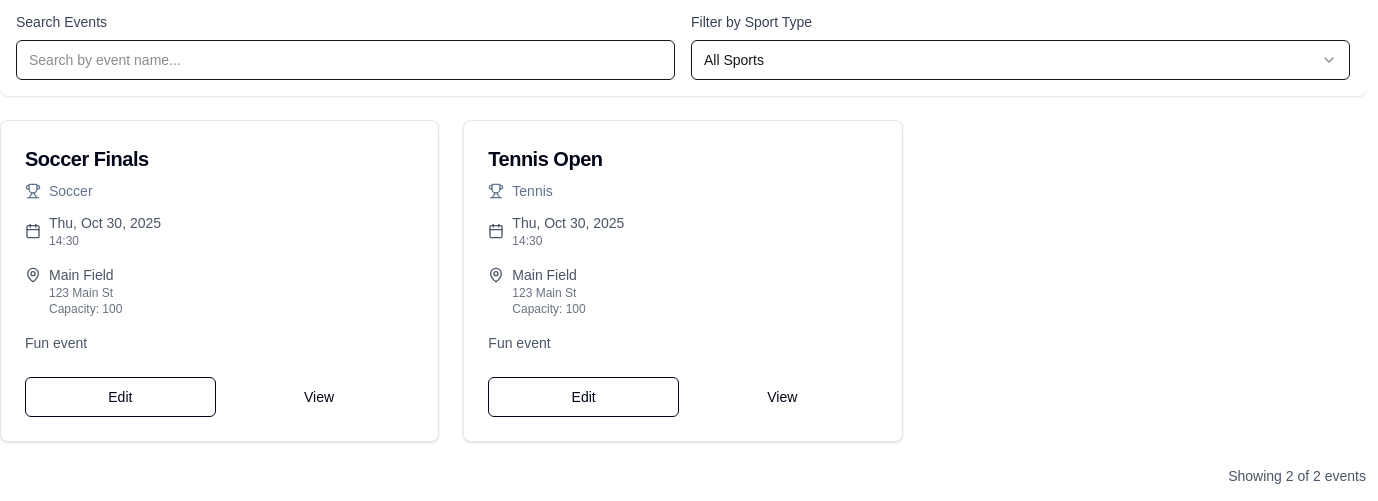
Scenario: DashboardClient › filters by search query
Type "tennis" into the field with placeholder "Search by event name..." at (346, 60), box [16,40,675,80]
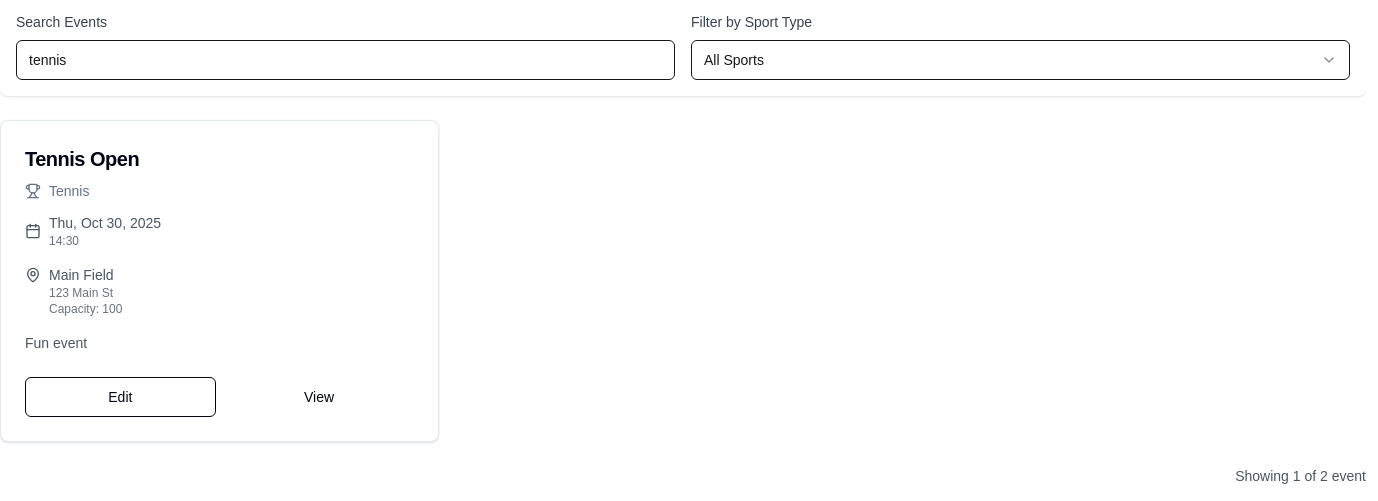
Expected: the heading "Tennis Open" is shown, [25,148,139,170]
Expected: the heading "Soccer Finals" is gone
Expected: the text "Showing 1 of 2 event" is shown, [1235,468,1366,484]
